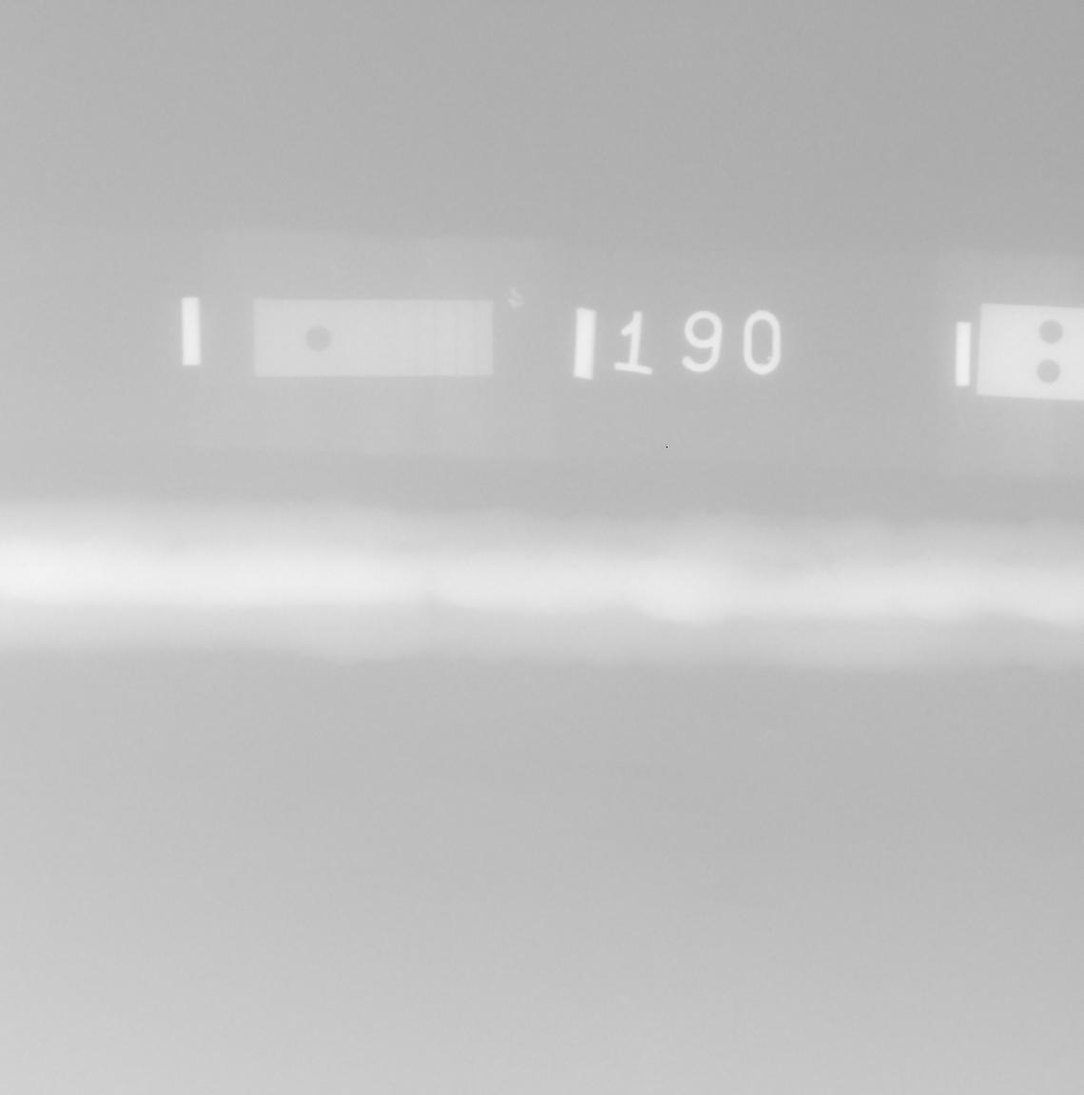Pore/Porosity: (570, 563, 577, 567), (380, 625, 385, 630), (393, 628, 397, 633)
Reference Standard 1: (253, 299, 493, 376)
